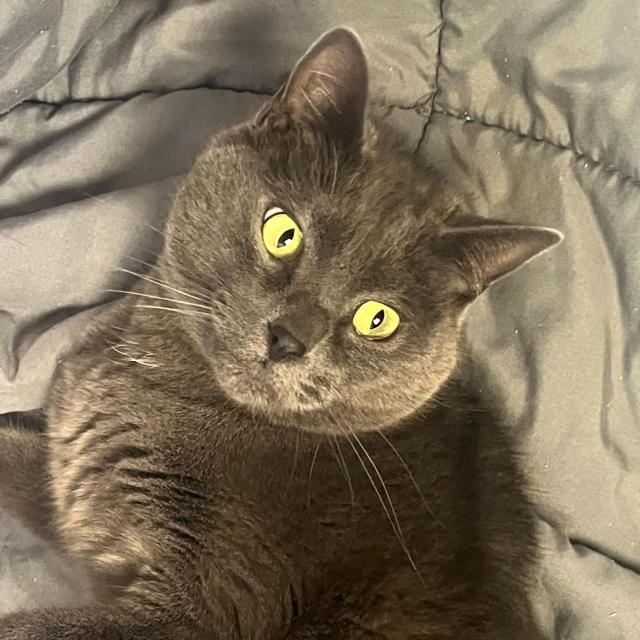russian_blue_cat: (141, 18, 571, 452)
